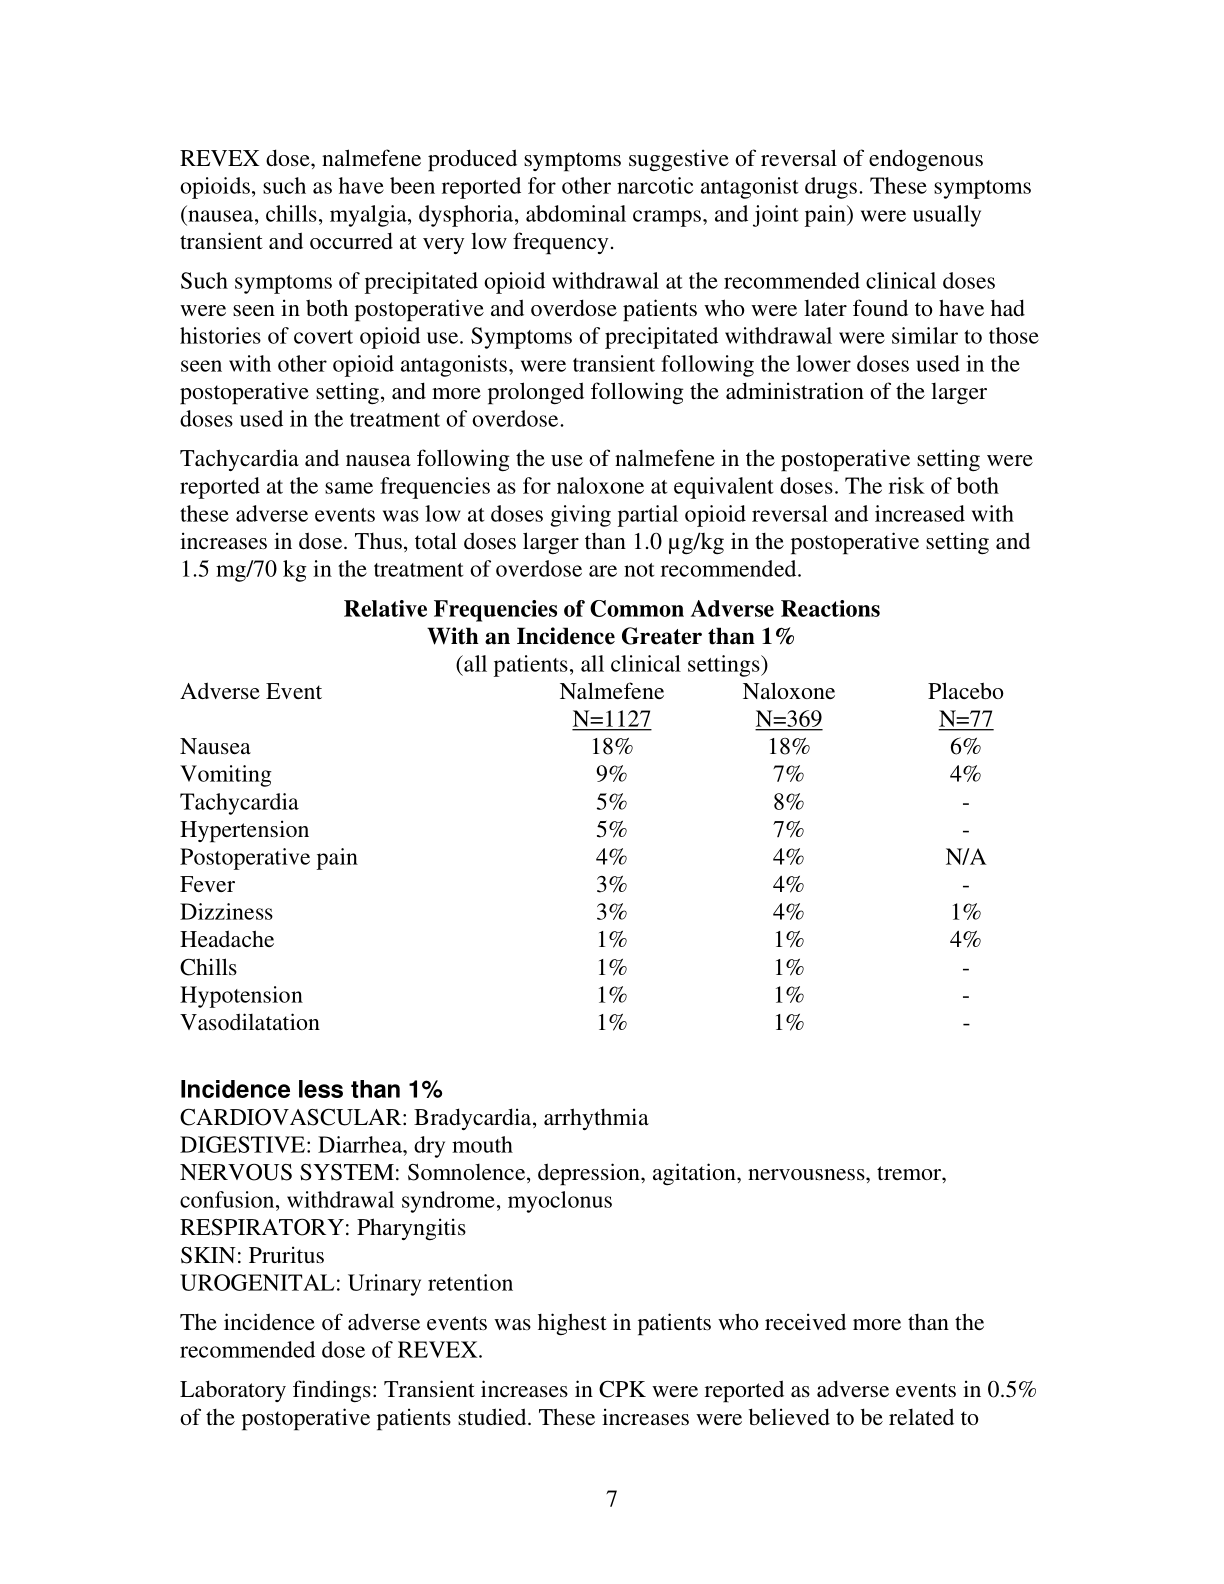nolines: (175, 675, 1008, 1034)
